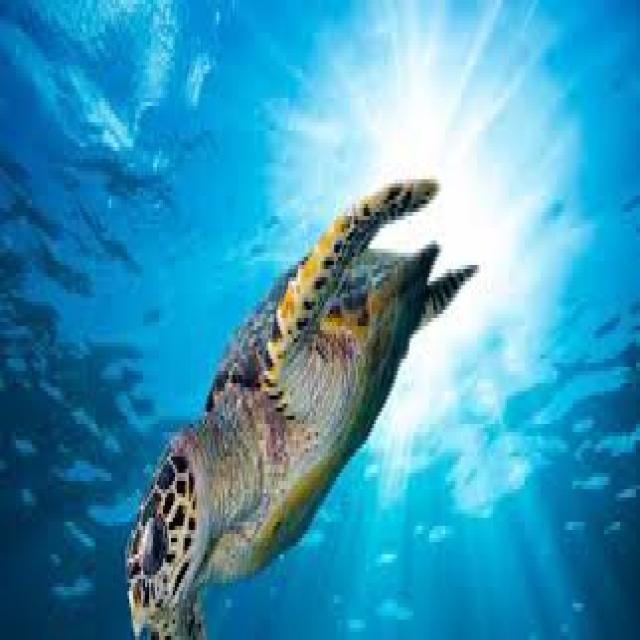turtle: (96, 320, 414, 562)
